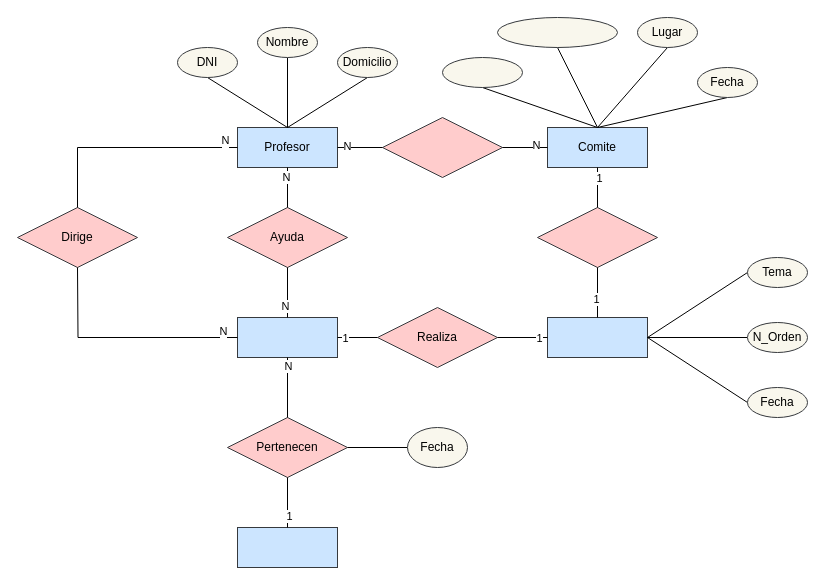
Some shapes in this 825 by 585 pixel diagram are drawn without their labels. The centre of each missing label's shape, as x and y in pixels:
"Alumno" belongs at point 287,337.
"Evalúa" belongs at point 597,237.
"Formar" belongs at point 442,147.
"Grupo" belongs at point 287,547.
"N_Componentes" belongs at point 557,32.
"N_Tribunal" belongs at point 482,72.
"TFC" belongs at point 597,337.
